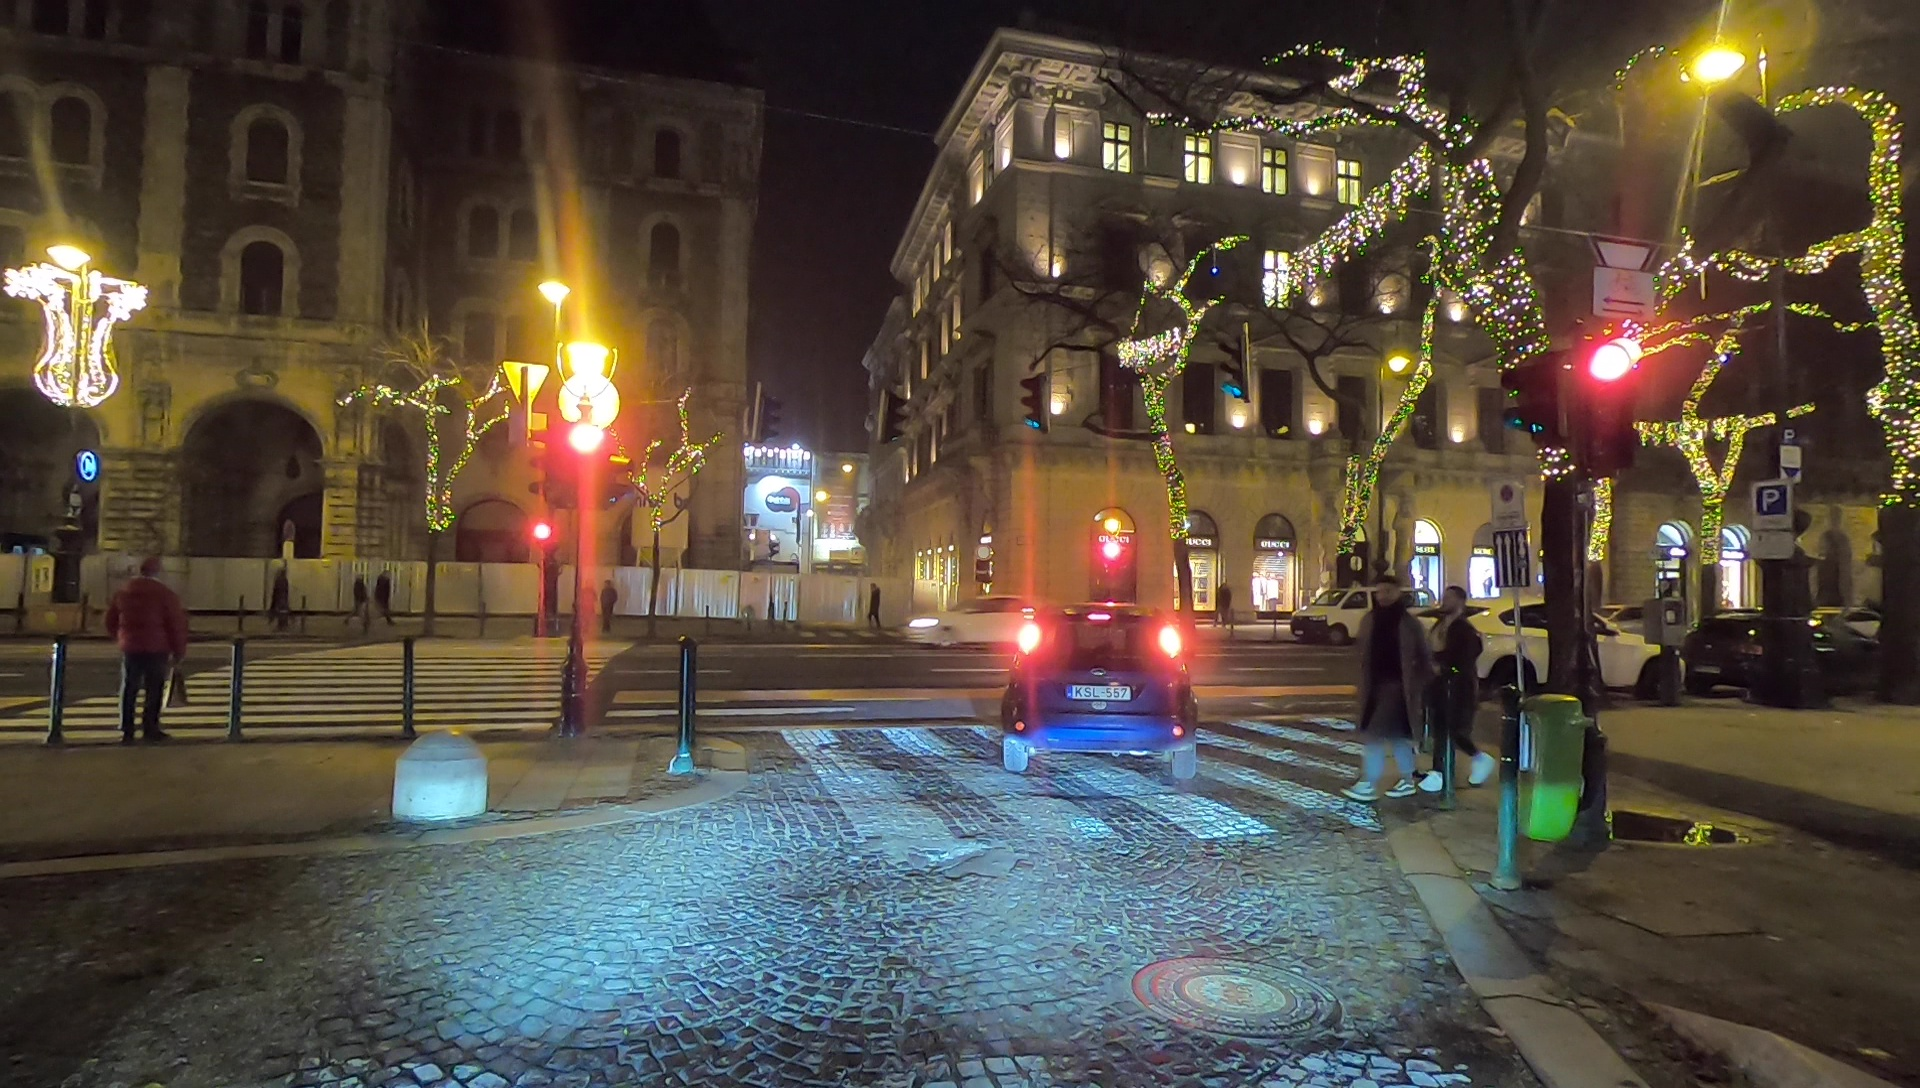person: (1422, 582, 1501, 795), (109, 557, 192, 745), (1353, 578, 1422, 801), (268, 567, 291, 634), (345, 569, 370, 630), (574, 578, 598, 641), (373, 568, 394, 630), (600, 580, 618, 631), (1213, 579, 1231, 628), (866, 582, 884, 628)
